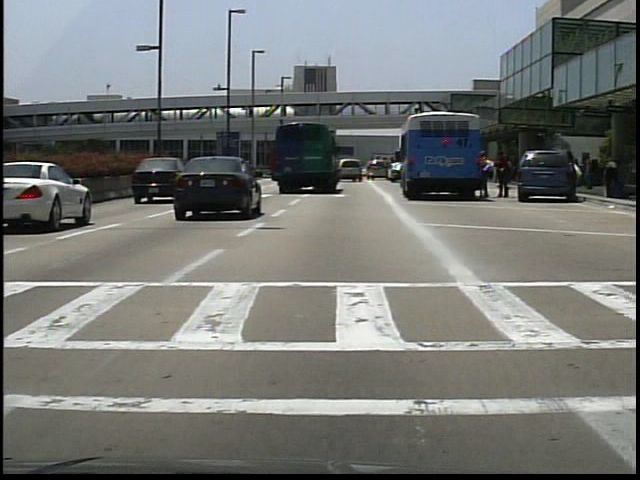person: (478, 152, 495, 199), (496, 153, 511, 198), (571, 161, 587, 200)
